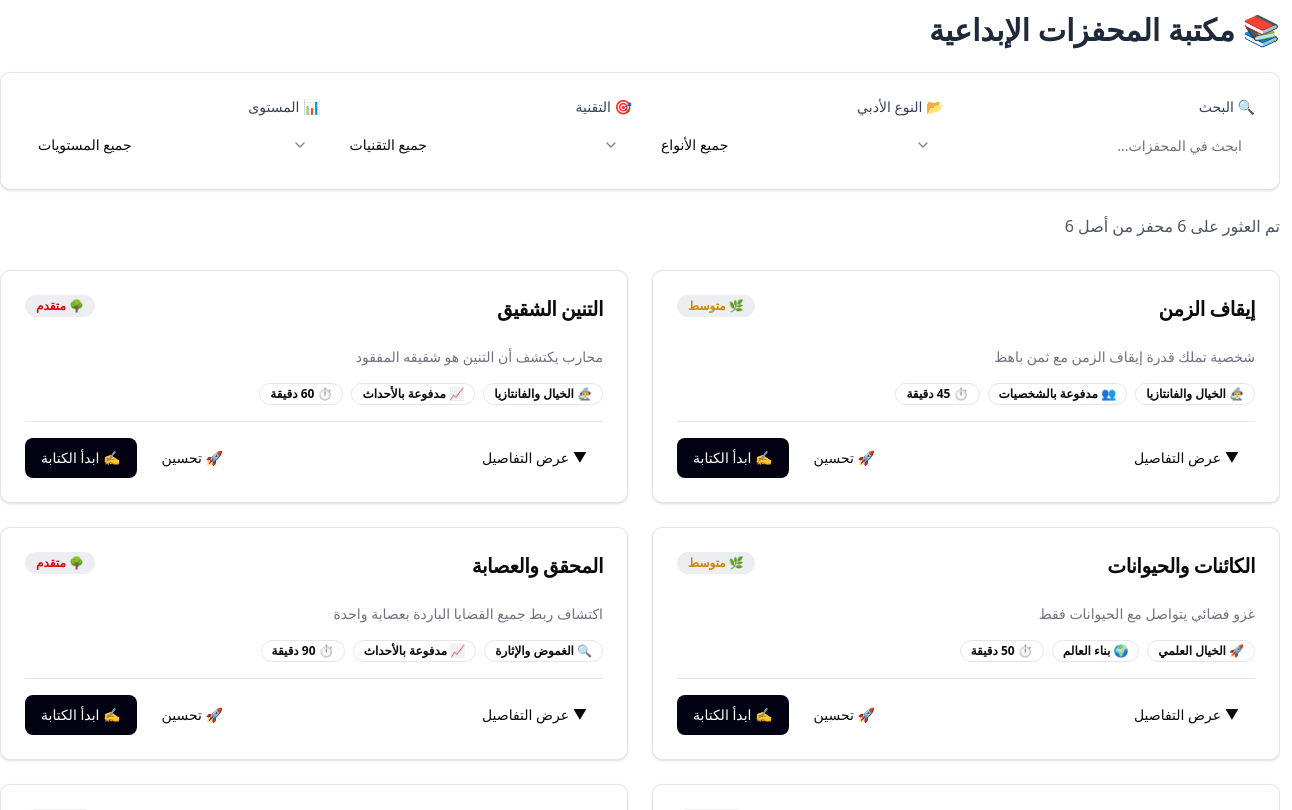
Scenario: PromptLibrary › filters prompts by search term
The width and height of the screenshot is (1292, 810).
Type "تنين" into the field with placeholder "ابحث في المحفزات..." at (1107, 145), box [960,125,1255,165]
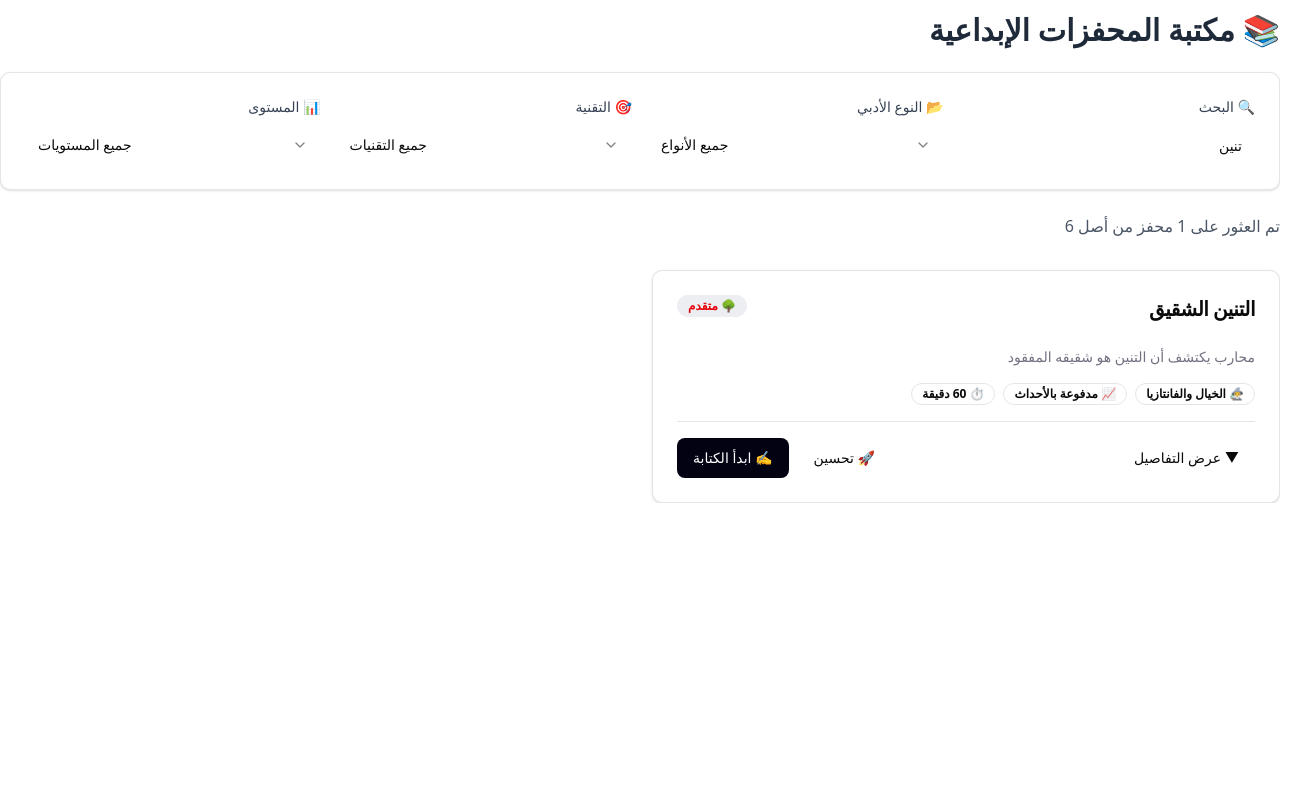
Expected: the text "التنين الشقيق" is shown, [1149,295,1255,323]
Expected: the text "إيقاف الزمن" is gone
